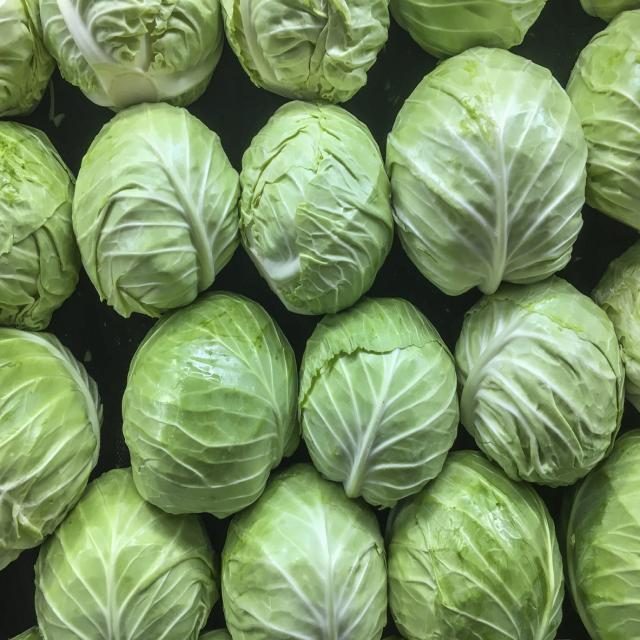cabbage: (390, 48, 589, 306), (121, 284, 300, 528), (73, 101, 239, 329), (452, 272, 619, 486), (302, 286, 458, 506), (238, 98, 390, 316), (31, 460, 215, 640), (391, 446, 564, 635), (219, 457, 389, 640), (1, 324, 104, 576), (31, 0, 226, 115), (0, 112, 76, 328), (571, 427, 640, 640)
